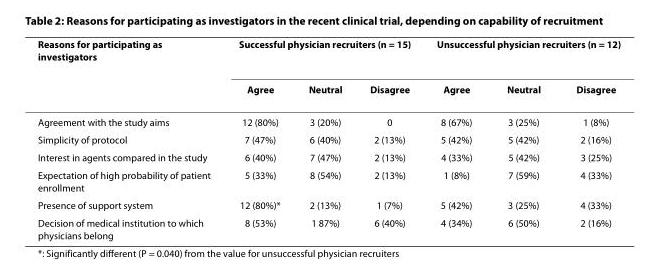table: (36, 36, 620, 240)
table column: (36, 36, 223, 240), (223, 36, 293, 240), (488, 36, 557, 240), (355, 36, 423, 240), (423, 36, 488, 240), (557, 36, 620, 240), (293, 36, 355, 240)
table column header: (36, 36, 620, 105)
table row: (36, 36, 620, 72), (36, 72, 620, 105), (36, 165, 620, 195), (36, 213, 620, 240), (36, 105, 620, 130), (36, 147, 620, 165), (36, 195, 620, 213), (36, 130, 620, 147)
table spanning cell: (36, 36, 223, 105), (223, 36, 423, 72), (423, 36, 620, 72)
